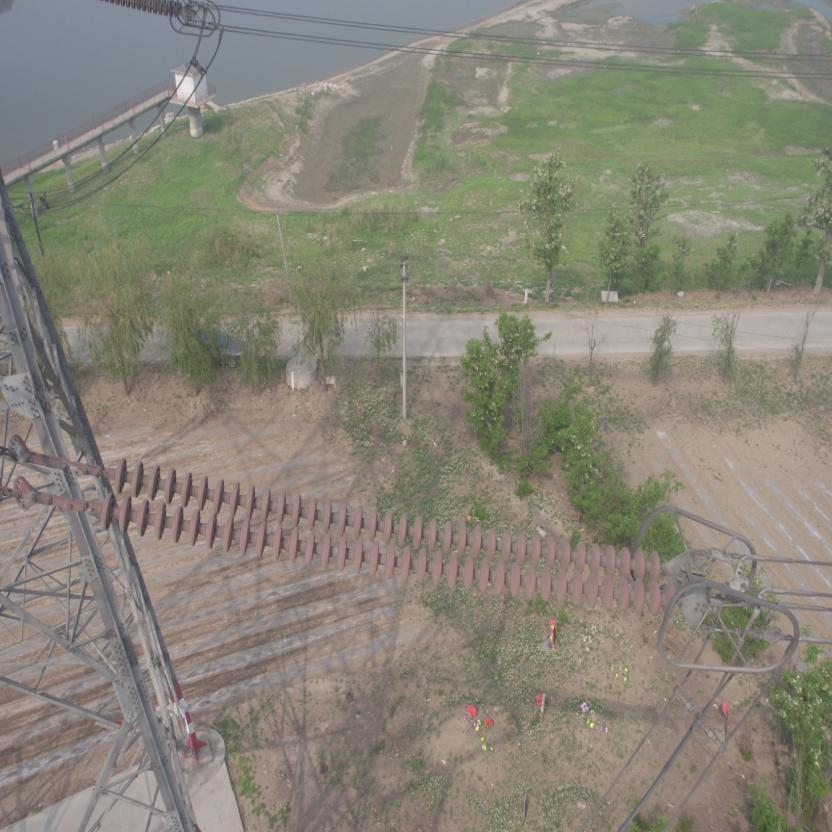insulator: (59, 450, 694, 623)
